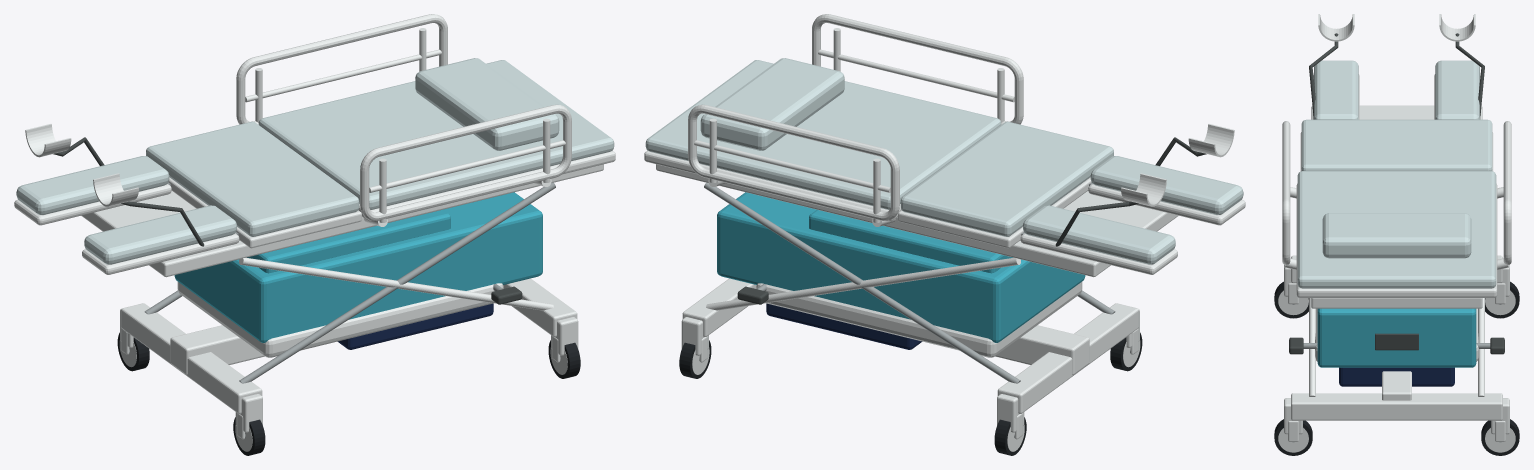
3 renders of one model, left to right at view 1: azimuth 30°, elevation 25°; view 2: azimuth 150°, elevation 25°; view 3: azimuth 270°, elevation 25°, orthographic. The views are drawn at different scales.
Visible parts, largest first — view 1: visual_part_001_0_0, visual_part_000_0_3, visual_part_000_0_5, visual_part_000_0_0, visual_part_004_0_0, visual_part_005_0_0, visual_part_002_0_1, visual_part_003_0_1, visual_part_000_0_1, visual_part_002_0_2, visual_part_003_0_2, visual_part_000_0_4 (+1 smaller); view 2: visual_part_001_0_0, visual_part_000_0_3, visual_part_000_0_5, visual_part_000_0_0, visual_part_005_0_0, visual_part_004_0_0, visual_part_003_0_1, visual_part_002_0_1, visual_part_000_0_1, visual_part_003_0_2, visual_part_002_0_2, visual_part_000_0_4 (+1 smaller); view 3: visual_part_001_0_0, visual_part_000_0_5, visual_part_000_0_0, visual_part_000_0_3, visual_part_002_0_1, visual_part_003_0_1, visual_part_001_0_1, visual_part_000_0_4, visual_part_000_0_2, visual_part_004_0_0, visual_part_005_0_0, visual_part_002_0_2 (+11 smaller).
Part boxes in pixels (<box>): visual_part_001_0_0: <box>258,58,614,209</box>; visual_part_000_0_3: <box>174,192,542,342</box>; visual_part_000_0_5: <box>81,164,603,439</box>; visual_part_000_0_0: <box>146,121,359,236</box>; visual_part_004_0_0: <box>360,104,571,222</box>; visual_part_005_0_0: <box>236,14,447,124</box>; visual_part_002_0_1: <box>84,205,236,264</box>; visual_part_003_0_1: <box>16,156,169,214</box>; visual_part_000_0_1: <box>125,182,555,383</box>; visual_part_002_0_2: <box>82,173,239,274</box>; visual_part_003_0_2: <box>14,124,171,225</box>; visual_part_000_0_4: <box>337,303,493,349</box>; visual_part_001_0_0: <box>645,58,1001,209</box>; visual_part_000_0_3: <box>717,192,1085,342</box>; visual_part_000_0_5: <box>656,164,1178,439</box>; visual_part_000_0_0: <box>900,121,1113,236</box>; visual_part_005_0_0: <box>688,104,899,222</box>; visual_part_004_0_0: <box>812,14,1023,124</box>; visual_part_003_0_1: <box>1023,205,1175,264</box>; visual_part_002_0_1: <box>1090,156,1243,214</box>; visual_part_000_0_1: <box>704,182,1134,383</box>; visual_part_003_0_2: <box>1020,173,1177,274</box>; visual_part_002_0_2: <box>1088,124,1245,225</box>; visual_part_000_0_4: <box>766,303,922,349</box>; visual_part_001_0_0: <box>1297,171,1496,288</box>; visual_part_000_0_5: <box>1284,105,1509,441</box>; visual_part_000_0_0: <box>1301,119,1492,170</box>; visual_part_000_0_3: <box>1317,308,1476,367</box>; visual_part_002_0_1: <box>1314,60,1358,119</box>; visual_part_003_0_1: <box>1435,60,1479,119</box>; visual_part_001_0_1: <box>1296,183,1497,297</box>; visual_part_000_0_4: <box>1339,367,1454,386</box>; visual_part_000_0_2: <box>1289,333,1504,354</box>; visual_part_004_0_0: <box>1282,121,1290,265</box>; visual_part_005_0_0: <box>1503,121,1511,265</box>; visual_part_002_0_2: <box>1313,14,1359,119</box>.
Bounding box in the file's own units: 2.05 × 1.09 × 0.972.
